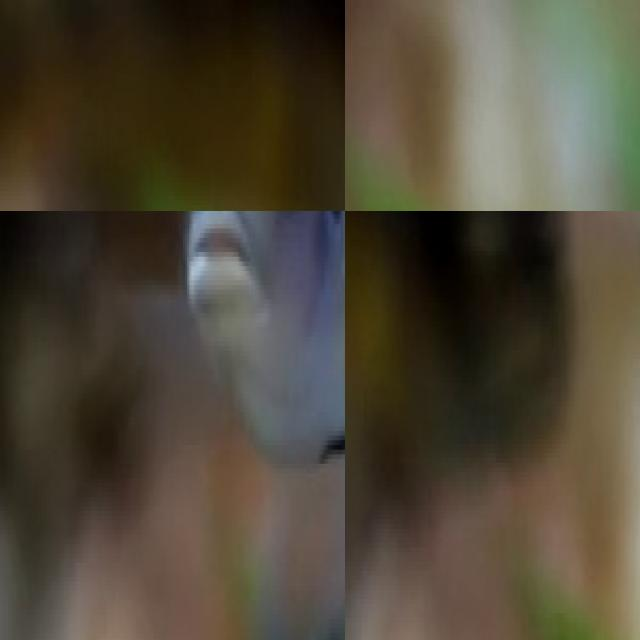fish: (0, 0, 345, 211), (102, 577, 345, 640)
